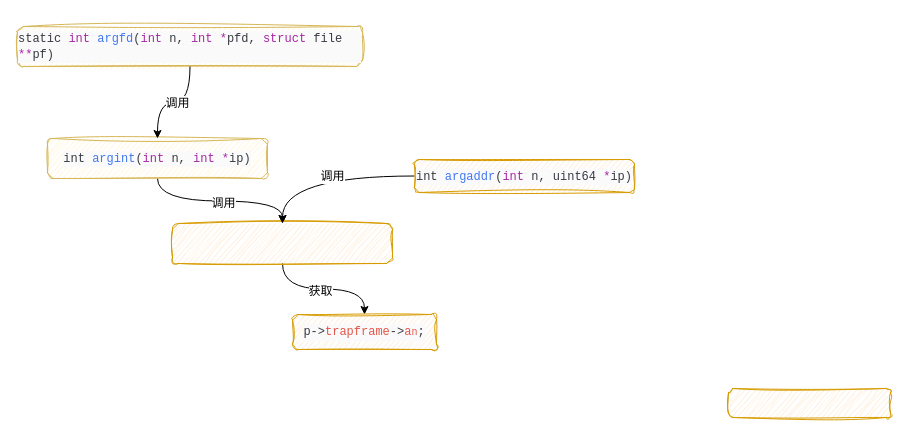
Some shapes in this 908 by 435 pixel diagram are drawn without their labels. Here are the shapes that lost their labels. From the top down, the box of each, then its label:
(172, 222, 392, 264): static uint64 argraw ( int n)
(728, 388, 890, 418): 读取第n个参数，解析为地址
